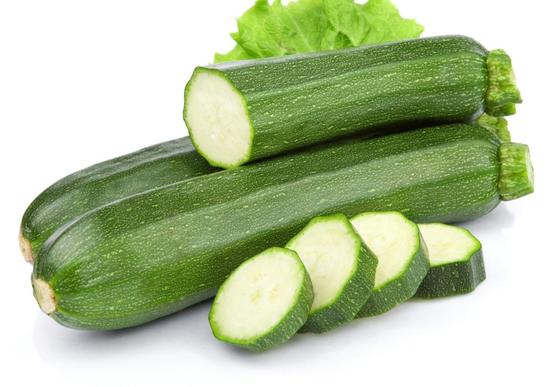zucchini: (45, 129, 529, 353)
